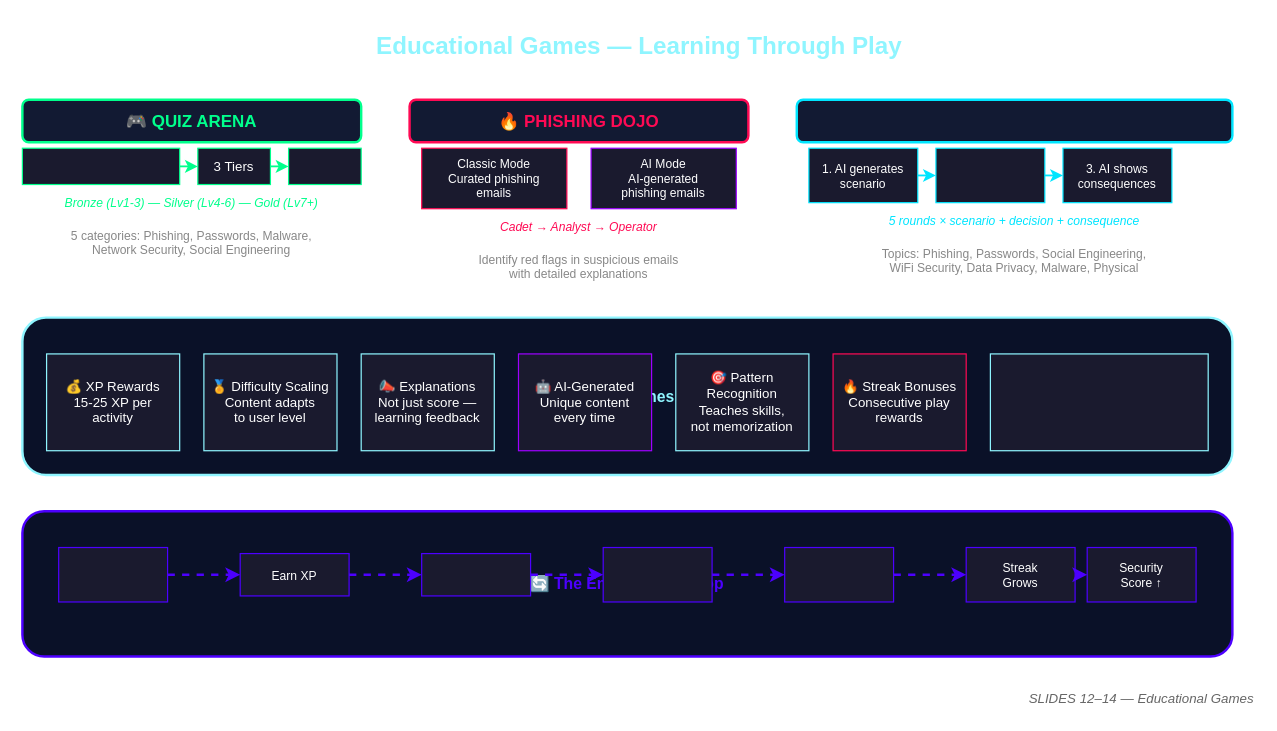
The diagram is 1277 pixels wide and 731 high, and some of its shapes have lost their labels. The centre of each missing label's shape, as x and y in pixels:
"2. User makes decisions" belongs at [990,175].
"5 cybersecurity questions" belongs at [100,166].
"Daily Quest Complete" belongs at [838,574].
"Explanations" belongs at [324,166].
"Harder Content Unlocked" belongs at [657,574].
"Level Up" belongs at [475,574].
"Use Tool / Play Game" belongs at [112,574].
"🌕 SCENARIO SIMULATOR" belongs at [1014,120].
"🔐 Security Focus All content cybersecurity" belongs at [1098,402].
